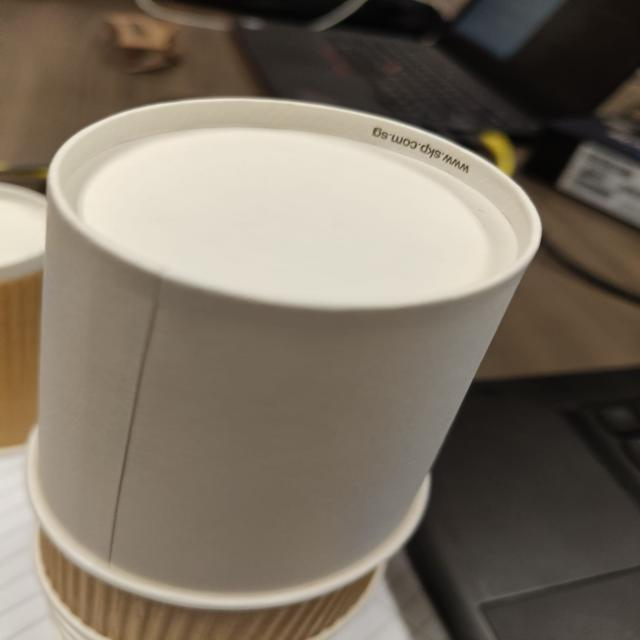Browncup: (29, 542, 390, 640)
Whitecup: (65, 127, 549, 582)
